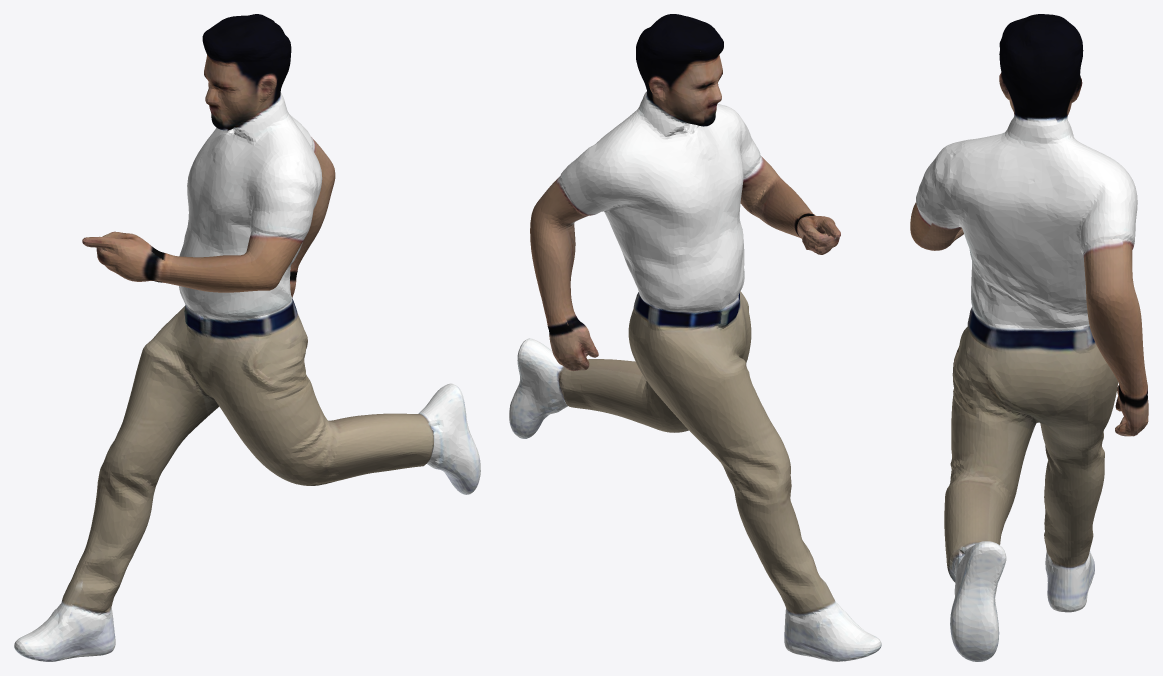
Rendered from run_3.glb.
3 renders of one model, left to right at view 1: azimuth 30°, elevation 25°; view 2: azimuth 150°, elevation 25°; view 3: azimuth 270°, elevation 25°, orthographic. The views are drawn at different scales.
Visible parts, largest first — view 1: tmp1ictwl40.ply; view 2: tmp1ictwl40.ply; view 3: tmp1ictwl40.ply.
Part boxes in pixels (x1=…): tmp1ictwl40.ply: x1=14, y1=14, x2=480, y2=661; tmp1ictwl40.ply: x1=509, y1=14, x2=881, y2=661; tmp1ictwl40.ply: x1=910, y1=14, x2=1148, y2=661.
Bounding box in the file's own units: 1.44 × 1.99 × 0.6533.
Materials: 1 (1 with a texture image).
